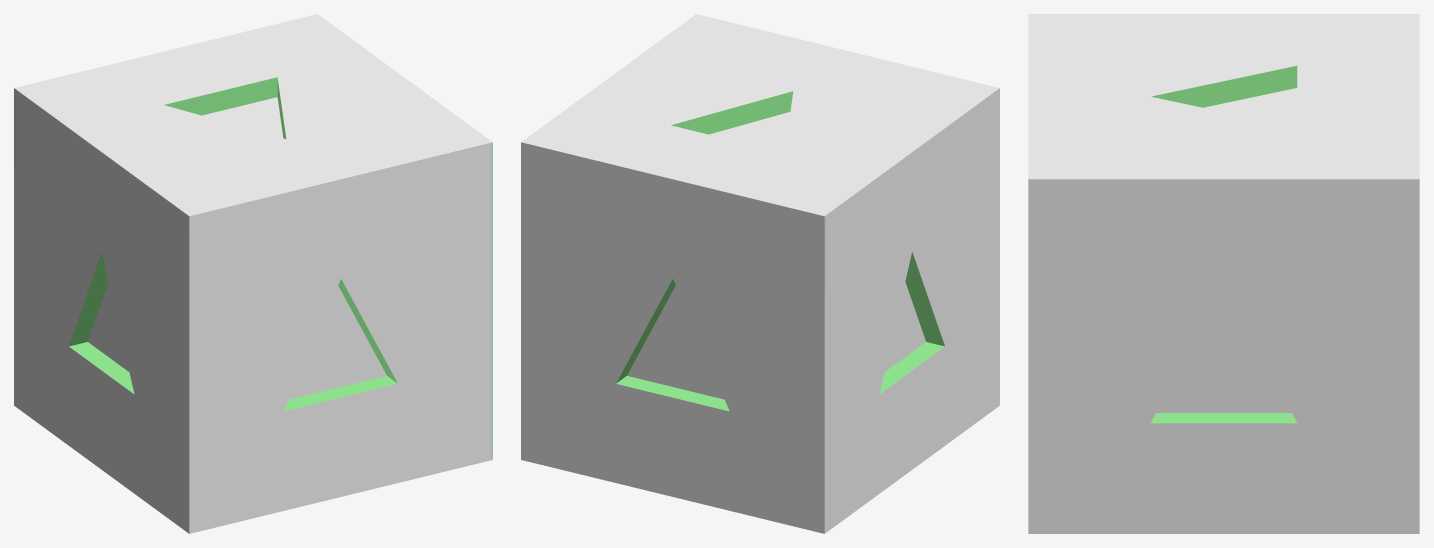
Rendered from triangle_gcube.glb.
3 views of the same model, side by side, from view 1: azimuth 30°, elevation 25°; view 2: azimuth 150°, elevation 25°; view 3: azimuth 270°, elevation 25° (orthographic). The views are drawn at different scales.
Visible parts, largest first — view 1: Triangle_GCube; view 2: Triangle_GCube; view 3: Triangle_GCube.
Boxes of the visible parts, left/top/right/bottom form: Triangle_GCube: left=14, top=14, right=492, bottom=533; Triangle_GCube: left=521, top=14, right=999, bottom=533; Triangle_GCube: left=1028, top=14, right=1419, bottom=533.
Size of the model in its own units: 0.8 by 0.8 by 0.8.
Materials: 1 (1 with a texture image).
